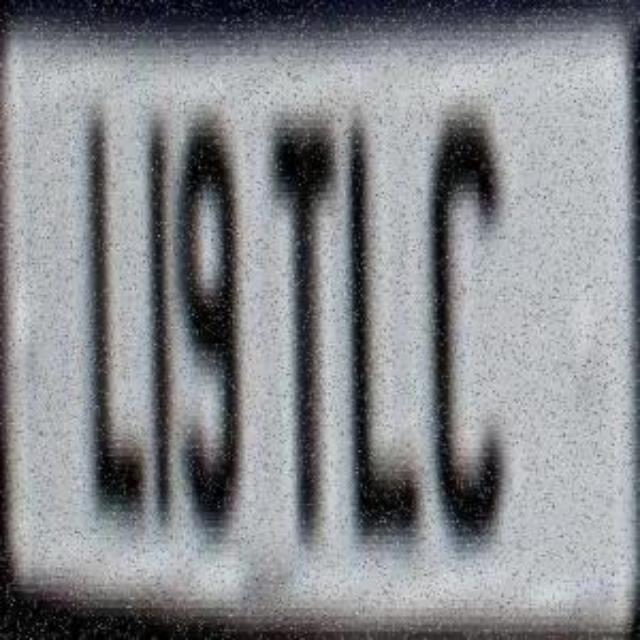License Plate: (9, 21, 625, 605)
